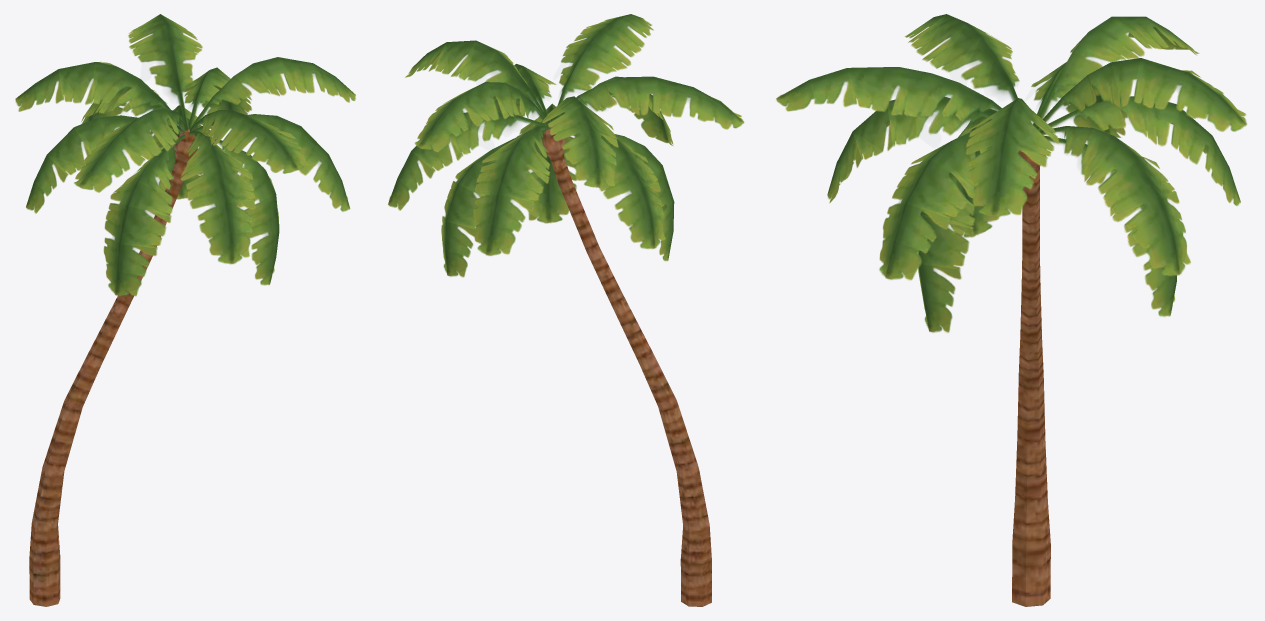
The model's file is bay-palm-2.lod0.glb.
3 renders of one model, left to right at view 1: azimuth 30°, elevation 25°; view 2: azimuth 150°, elevation 25°; view 3: azimuth 270°, elevation 25°, orthographic. The views are drawn at different scales.
Parts seen in each view (by area): view 1: Leaf_3_Leaf_3_0, Bark_3_Bark_3_0; view 2: Leaf_3_Leaf_3_0, Bark_3_Bark_3_0; view 3: Leaf_3_Leaf_3_0, Bark_3_Bark_3_0.
Part boxes in pixels (left/top/right/bottom): Leaf_3_Leaf_3_0: left=15, top=14, right=355, bottom=296; Bark_3_Bark_3_0: left=29, top=129, right=197, bottom=606; Leaf_3_Leaf_3_0: left=388, top=14, right=744, bottom=277; Bark_3_Bark_3_0: left=542, top=126, right=711, bottom=606; Leaf_3_Leaf_3_0: left=776, top=14, right=1246, bottom=332; Bark_3_Bark_3_0: left=1012, top=150, right=1050, bottom=606.
Size of the model in its own units: 4.19 by 6.5 by 4.36.
Materials: 2 (2 with a texture image).
